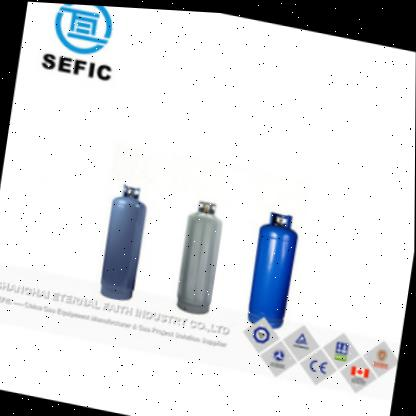gas-tank: (229, 191, 319, 344), (79, 160, 162, 313), (164, 185, 243, 329)
